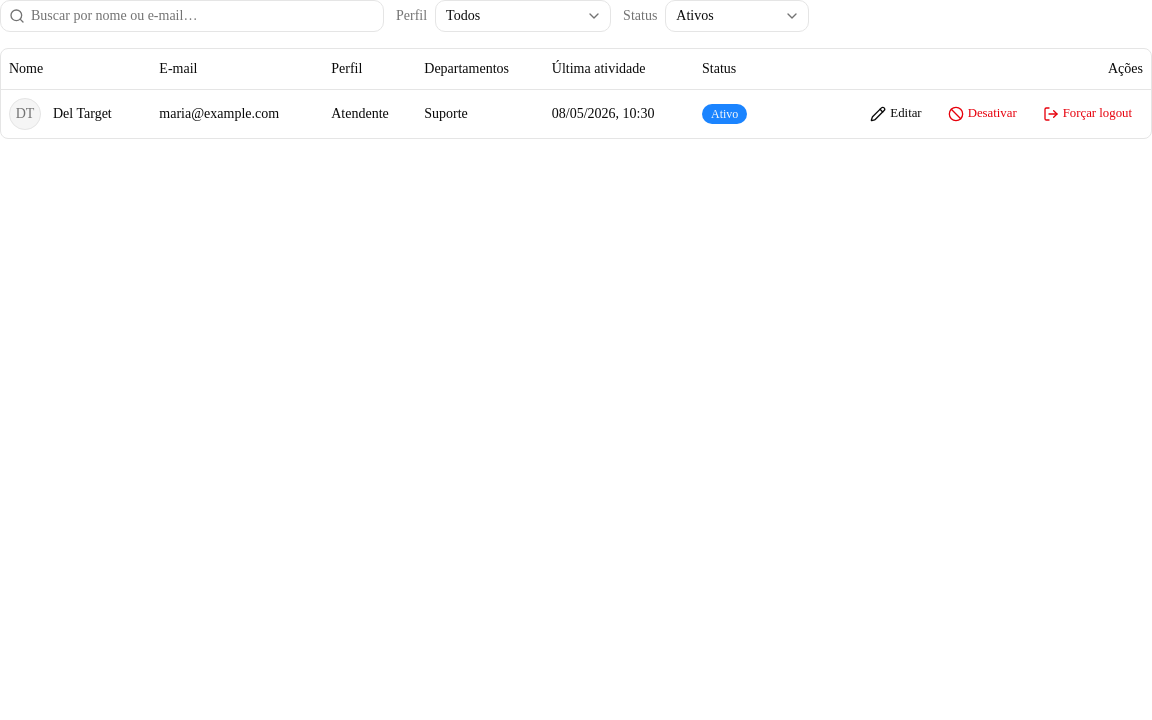
Test case: UsersTable › clicar Desativar abre DeactivateUserDialog
Click the button with aria-label "desativar usuário del target" at (982, 114), box [937,100,1028,128]
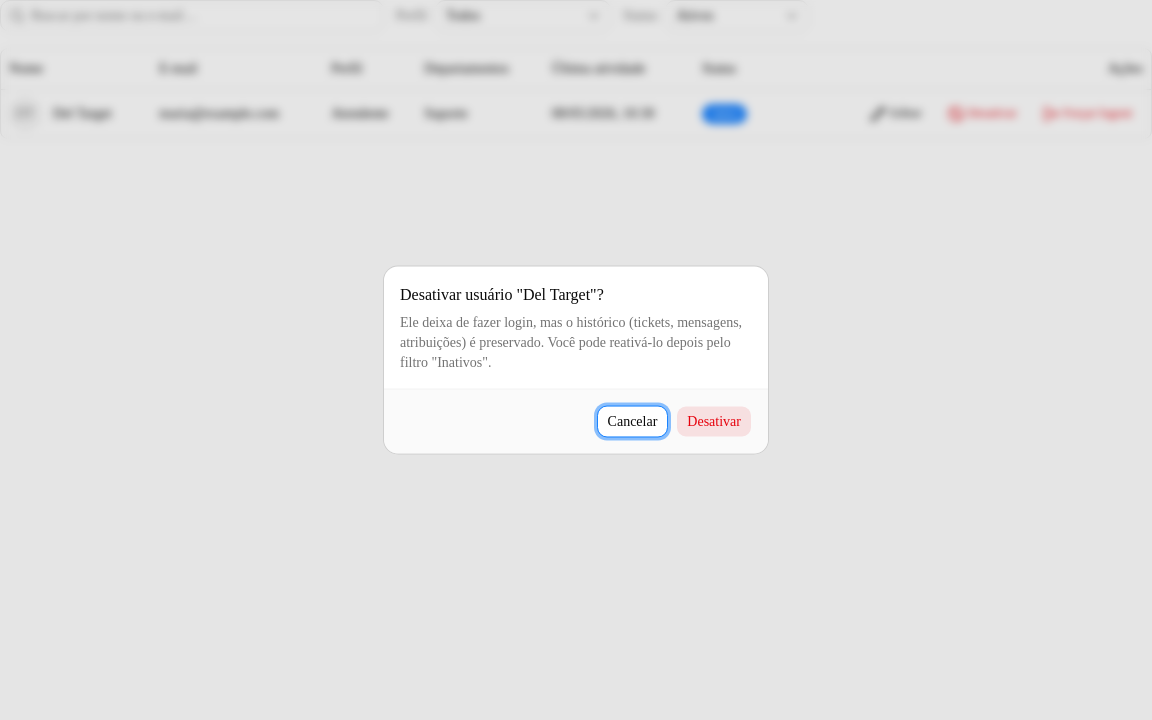
Now the heading "Desativar usuário \"Del Target\"?" is shown, box [400,282,604,306]
